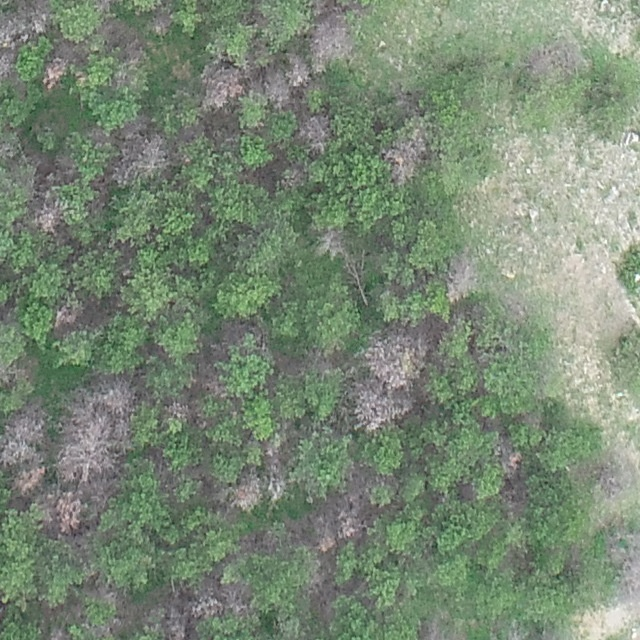unhealthy: (57, 382, 135, 478), (366, 322, 429, 389), (112, 128, 174, 183), (351, 381, 414, 435), (380, 131, 428, 184), (597, 439, 638, 499), (198, 60, 245, 111), (525, 38, 586, 77), (307, 18, 353, 64), (0, 398, 48, 437), (294, 110, 333, 153), (444, 252, 476, 303), (51, 490, 84, 534), (616, 538, 640, 596), (263, 63, 291, 112), (232, 471, 263, 512), (84, 474, 119, 510), (11, 464, 49, 496), (222, 581, 253, 615), (285, 50, 311, 90), (1, 440, 39, 467), (500, 481, 530, 515), (185, 594, 222, 621), (33, 201, 63, 234), (41, 56, 69, 91), (416, 616, 458, 639), (316, 226, 347, 257), (23, 4, 50, 38), (52, 301, 83, 330), (0, 11, 24, 48), (496, 444, 524, 475), (502, 290, 529, 321), (336, 511, 363, 540), (121, 37, 147, 65), (262, 474, 286, 502), (164, 616, 188, 640), (150, 12, 174, 36), (316, 533, 338, 554), (0, 50, 14, 81), (44, 628, 71, 640), (91, 0, 116, 12)
